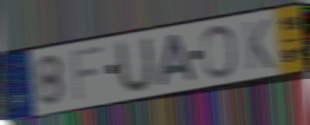8: (34, 52, 67, 108)
A: (155, 32, 199, 89)
F: (69, 43, 105, 105)
K: (241, 17, 275, 73)
O: (200, 23, 240, 80)
U: (116, 33, 157, 97)
